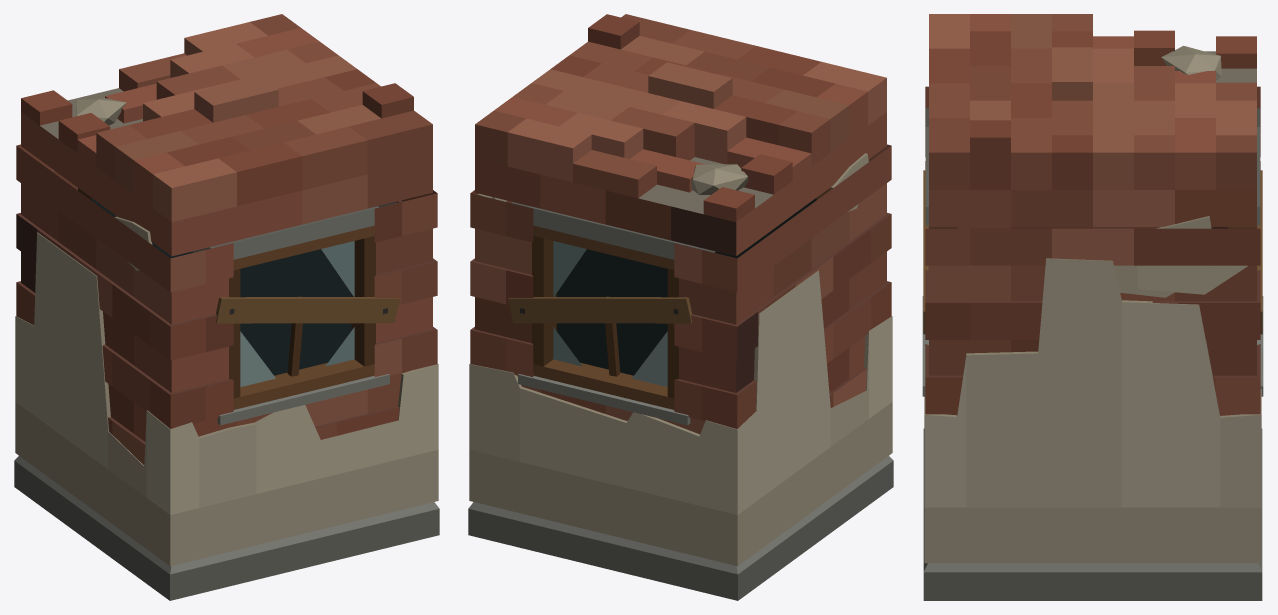
The model's file is parede_tijolo_janela.glb.
The picture shows the model from 3 angles, left to right: view 1: azimuth 30°, elevation 25°; view 2: azimuth 150°, elevation 25°; view 3: azimuth 270°, elevation 25°; orthographic projection. The views are drawn at different scales.
Parts seen in each view (by area): view 1: parede_tijolo_janela.001; view 2: parede_tijolo_janela.001; view 3: parede_tijolo_janela.001.
Part boxes in pixels (<box>): parede_tijolo_janela.001: <box>14,14,439,600</box>; parede_tijolo_janela.001: <box>468,14,893,600</box>; parede_tijolo_janela.001: <box>922,14,1263,600</box>.
Size of the model in its own units: 1.65 by 2.5 by 1.66.
